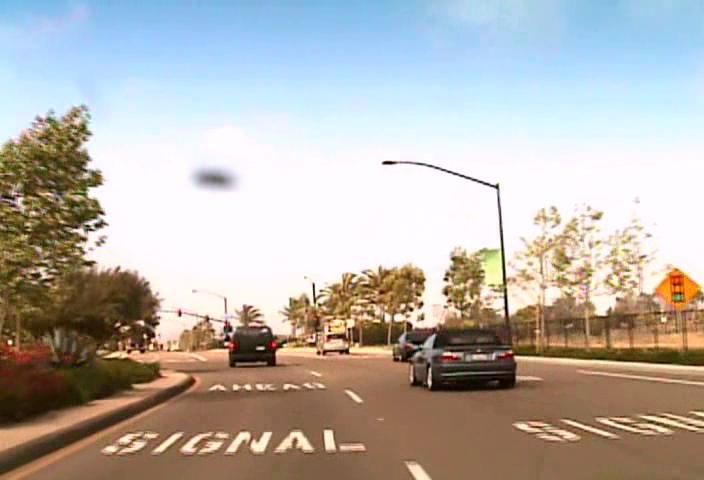signalAhead: (654, 267, 701, 312)
